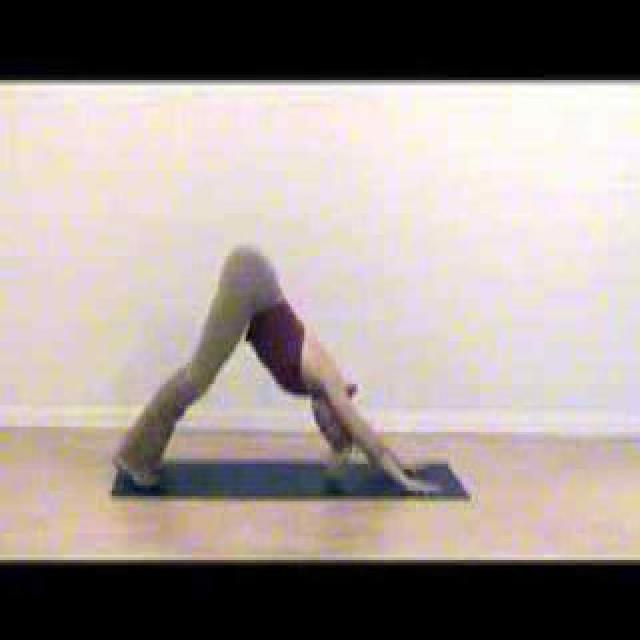yoga-pose downward: (104, 220, 456, 506)
